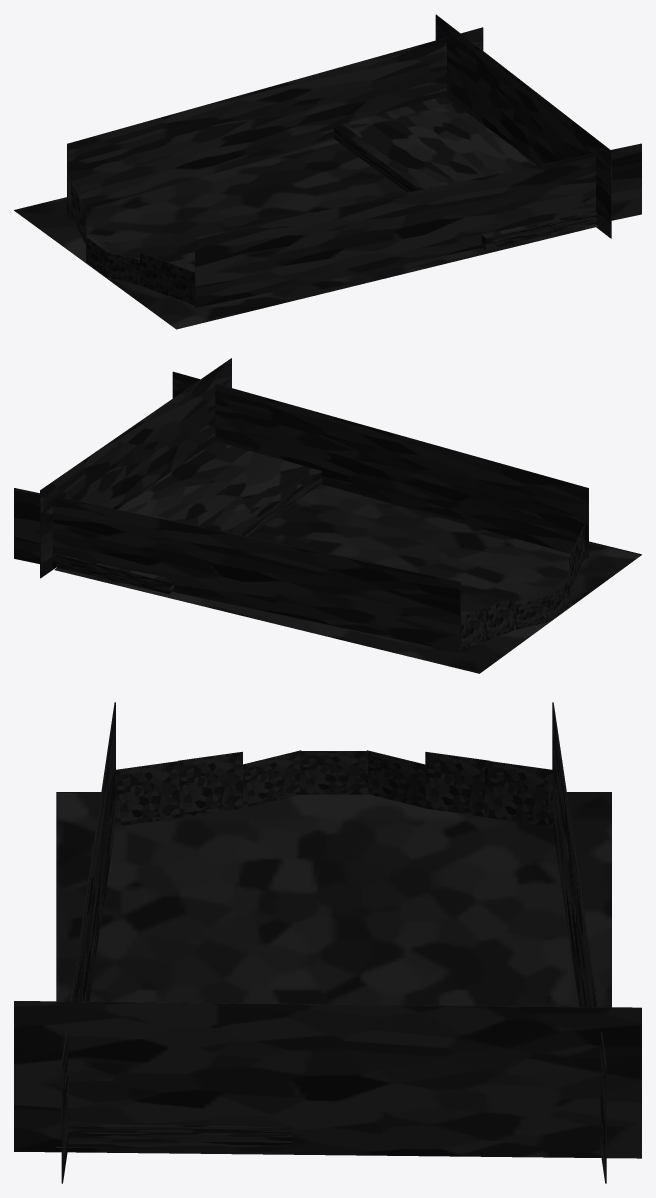
File: shootingGallery.glb
The picture shows the model from 3 angles, top to bottom: view 1: azimuth 30°, elevation 25°; view 2: azimuth 150°, elevation 25°; view 3: azimuth 270°, elevation 25°; orthographic projection. The views are drawn at different scales.
Visible parts, largest first — view 1: Cube.009, Cube, Cube.010, Cube.004, Cube.011, Cube.005, Cube.002, Cube.007, Cube.001; view 2: Cube.010, Cube, Cube.009, Cube.004, Cube.011, Cube.006, Cube.003, Cube.008, Cube.001; view 3: Cube, Cube.011, Cube.009, Cube.010, Cube.004, Cube.008, Cube.007, Cube.006, Cube.005, Cube.001, Cube.003, Cube.002.
Boxes of the visible parts, bbox=[...] form: Cube.009: bbox=[195, 143, 641, 308]; Cube: bbox=[14, 139, 598, 329]; Cube.010: bbox=[67, 27, 483, 214]; Cube.004: bbox=[334, 96, 596, 249]; Cube.011: bbox=[435, 14, 611, 238]; Cube.005: bbox=[140, 252, 169, 296]; Cube.002: bbox=[105, 251, 139, 285]; Cube.007: bbox=[170, 263, 194, 305]; Cube.001: bbox=[86, 237, 106, 275]; Cube.010: bbox=[14, 488, 460, 652]; Cube: bbox=[54, 484, 641, 673]; Cube.009: bbox=[172, 371, 588, 558]; Cube.004: bbox=[55, 441, 321, 594]; Cube.011: bbox=[40, 358, 231, 578]; Cube.006: bbox=[486, 596, 515, 640]; Cube.003: bbox=[516, 596, 550, 629]; Cube.008: bbox=[461, 607, 485, 649]; Cube.001: bbox=[549, 581, 569, 620]; Cube: bbox=[56, 792, 611, 1147]; Cube.011: bbox=[14, 1001, 641, 1158]; Cube.009: bbox=[61, 702, 115, 1183]; Cube.010: bbox=[552, 702, 606, 1183]; Cube.004: bbox=[68, 1124, 292, 1147]; Cube.008: bbox=[488, 761, 552, 826]; Cube.007: bbox=[115, 761, 179, 826]; Cube.006: bbox=[425, 752, 489, 817]; Cube.005: bbox=[178, 751, 242, 817]; Cube.001: bbox=[300, 751, 368, 794]; Cube.003: bbox=[367, 750, 425, 807]; Cube.002: bbox=[243, 750, 301, 807].
Bounding box in the file's own units: 308 × 55.32 × 209.
1 material, 1 textured.
